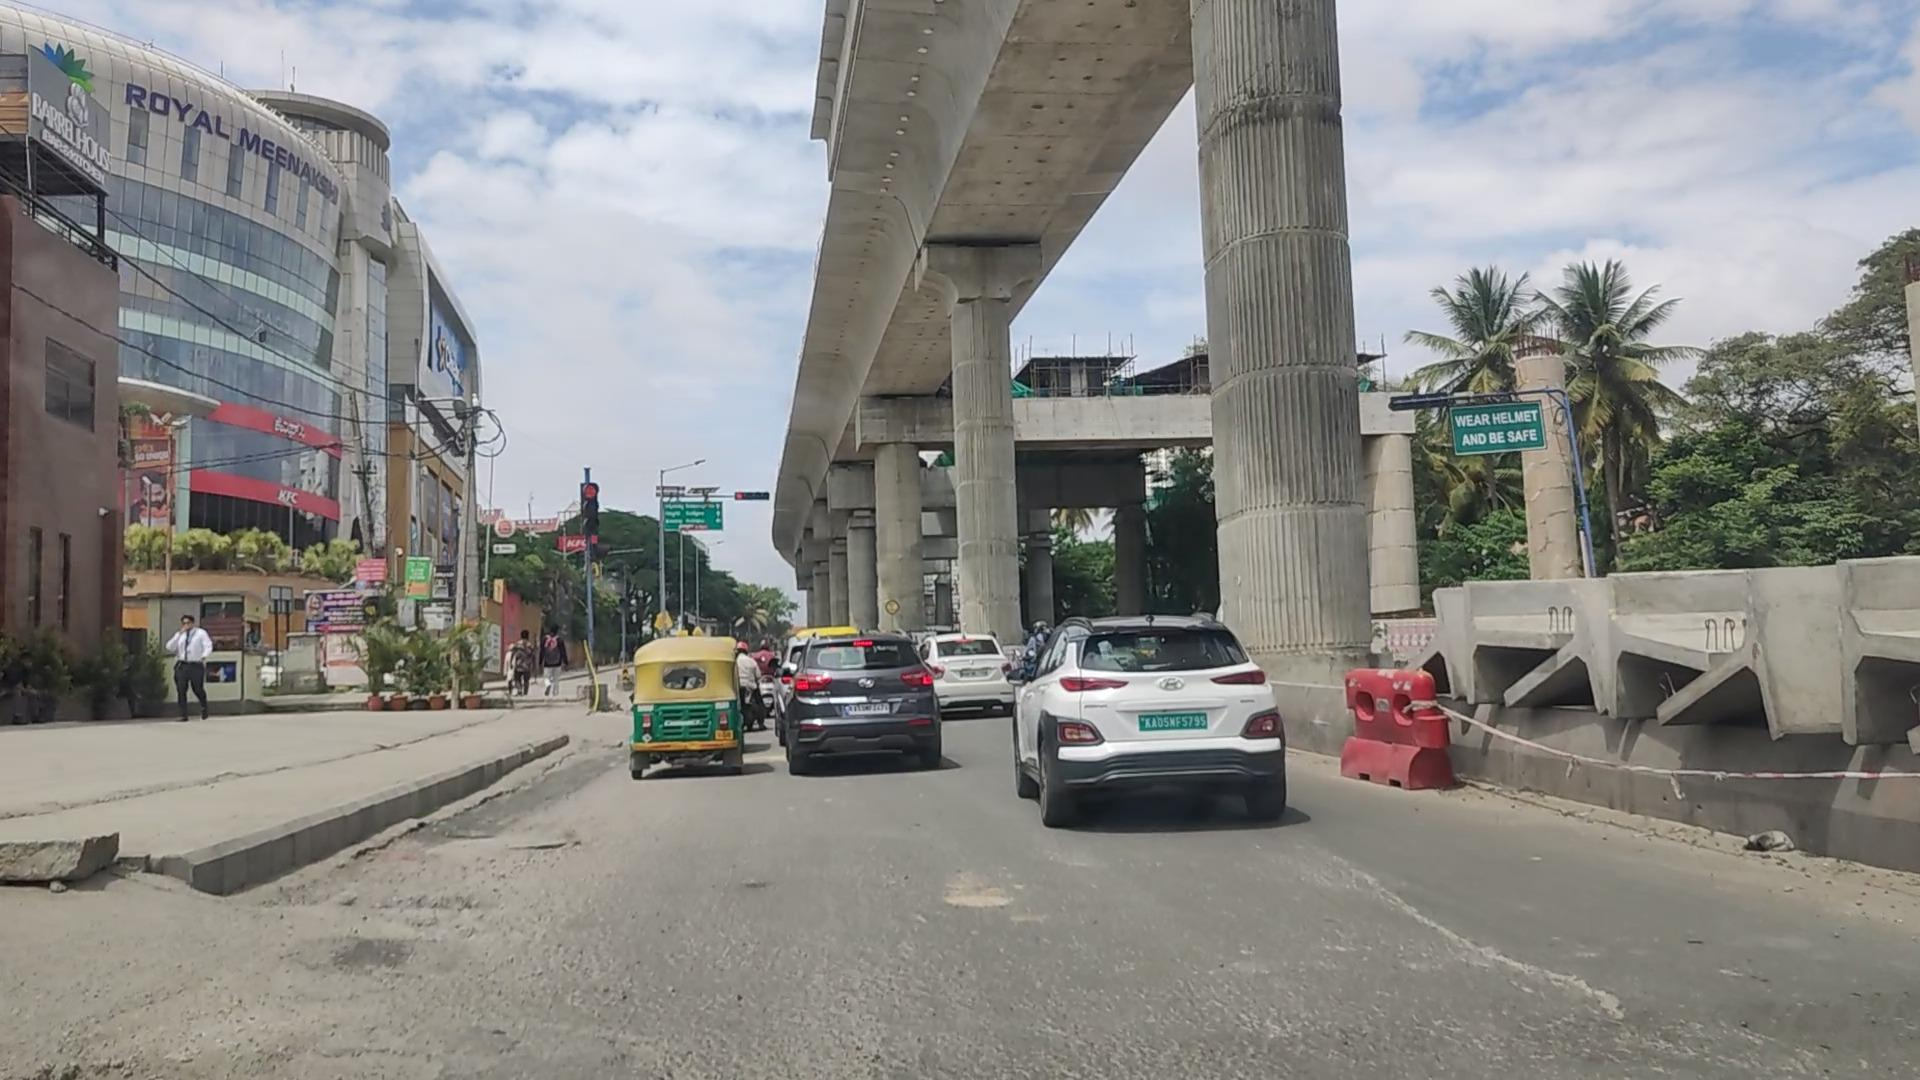LMV: (1022, 618, 1282, 831), (787, 636, 936, 765), (636, 634, 745, 762)
RoadDamages: (1274, 825, 1486, 959)
